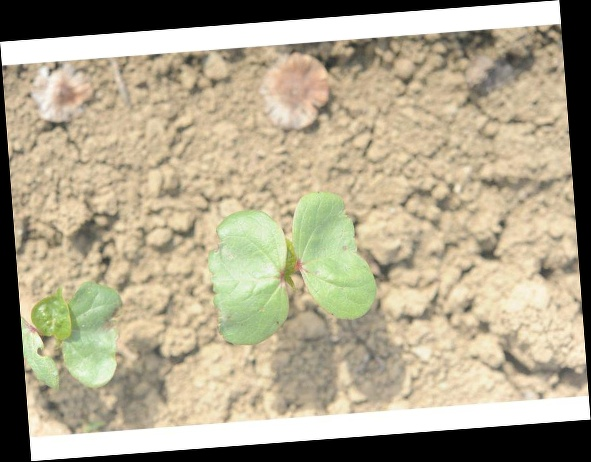cotton: (208, 191, 375, 342), (23, 279, 126, 393)
